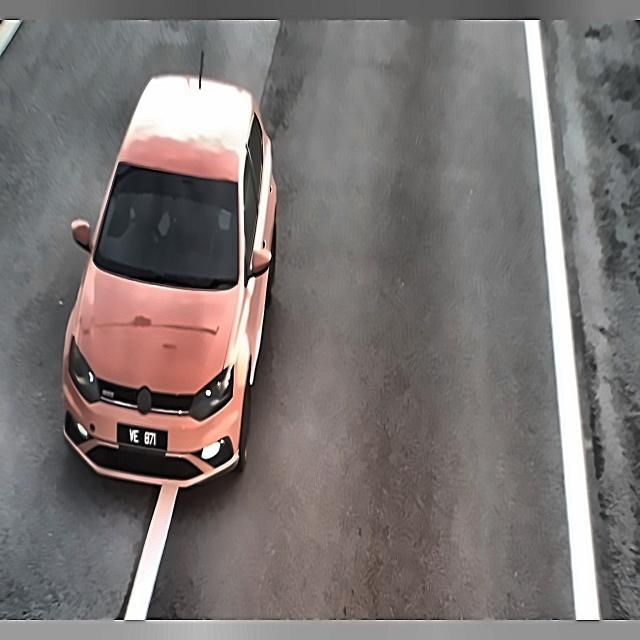car: (112, 418, 174, 460)
